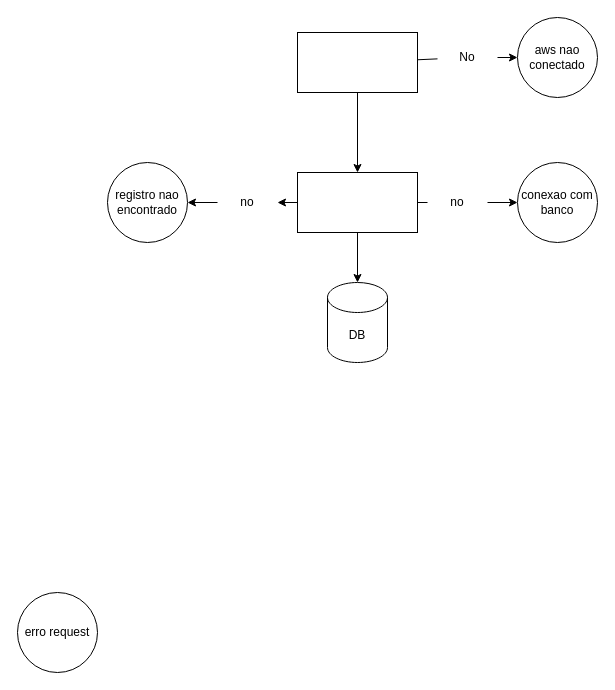
Image size: 615x690. Some labels were removed from this diagram. Here are the shapes that lost their labels. From the top down, the centre of each, then its label:
[357,62]: Sqs(delete)
[357,202]: update
